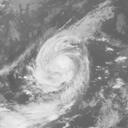cyclone: (28, 30, 93, 99)
